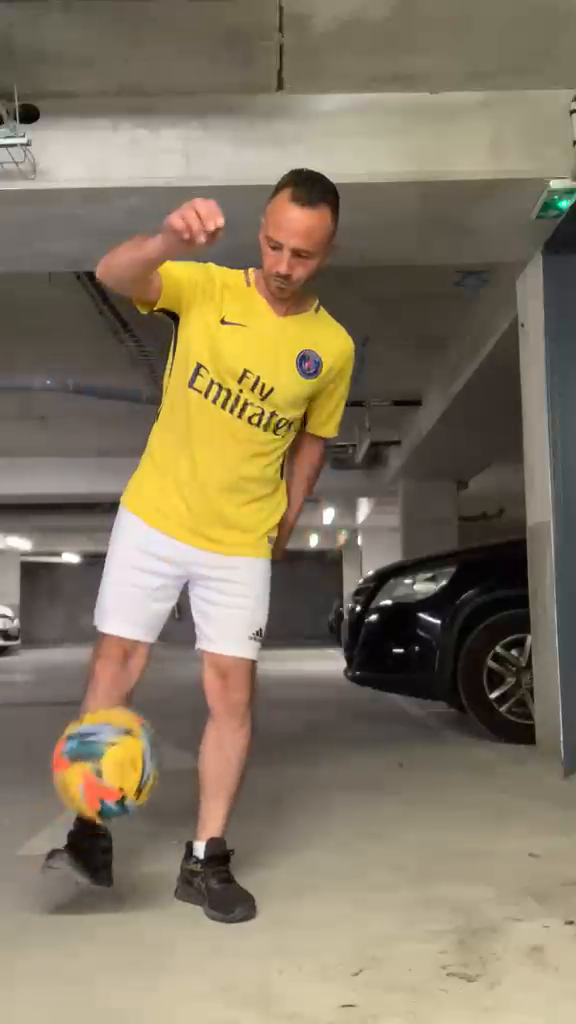ball: (48, 706, 161, 819)
